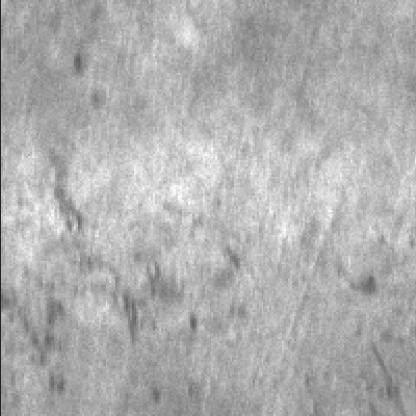rolled-in_scale: (4, 138, 233, 362), (339, 268, 401, 414)
